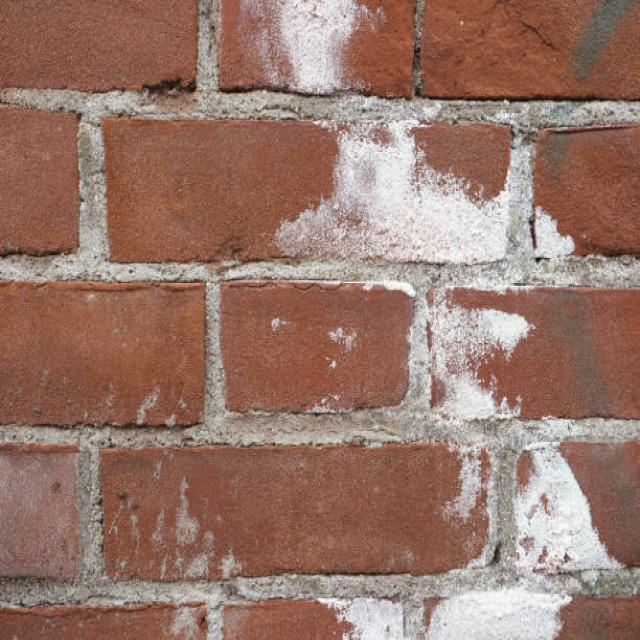efflorescence: (229, 5, 620, 639)
